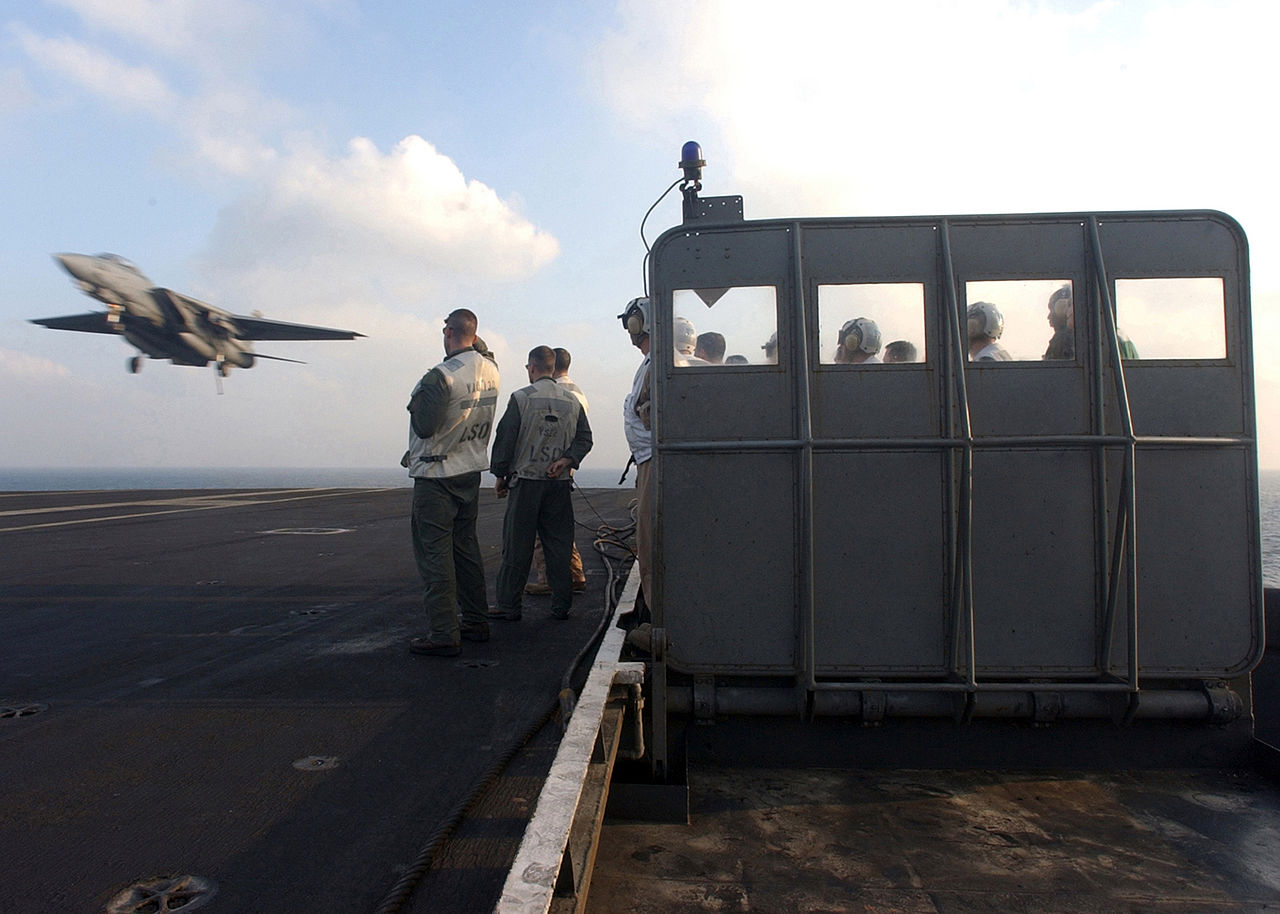F14: (24, 250, 370, 396)
